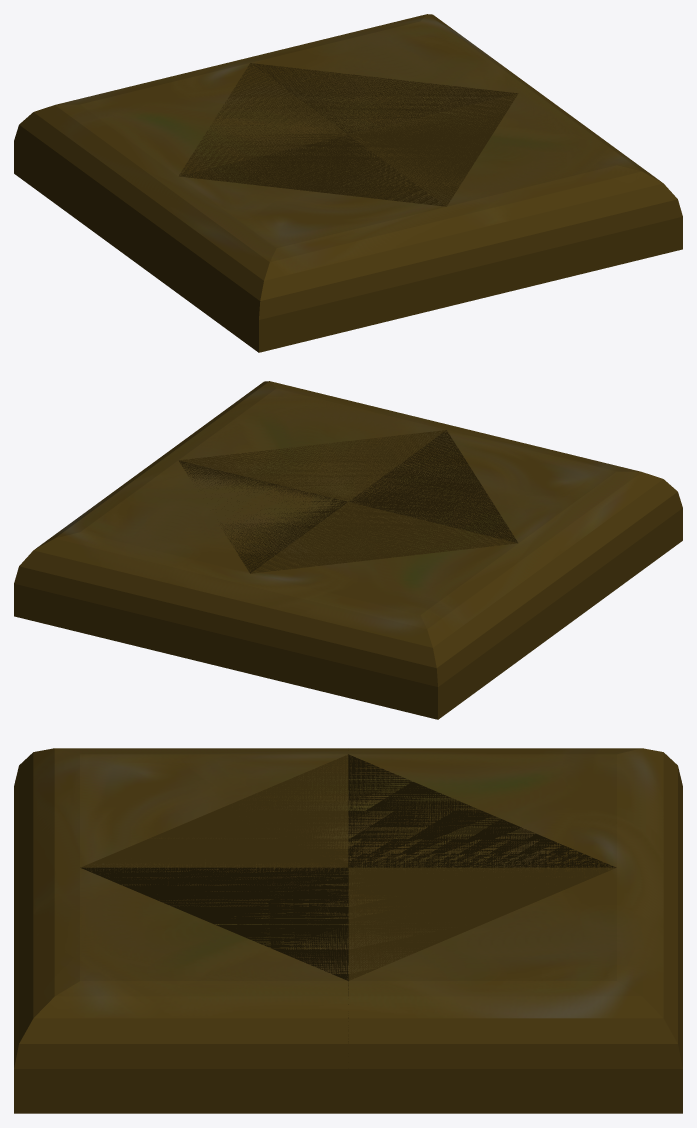
Rendered from UDirtTile.fbx.
The picture shows the model from 3 angles, top to bottom: view 1: azimuth 30°, elevation 25°; view 2: azimuth 150°, elevation 25°; view 3: azimuth 270°, elevation 25°; orthographic projection. The views are drawn at different scales.
Visible parts, largest first — view 1: Cube; view 2: Cube; view 3: Cube.
Part boxes in pixels (box(x1,y1,x2,y2)): Cube: box(14, 14, 682, 352); Cube: box(14, 381, 682, 719); Cube: box(14, 748, 682, 1113).
Size of the model in its own units: 200 by 200 by 34.54.
Materials: 1 (1 with a texture image).
